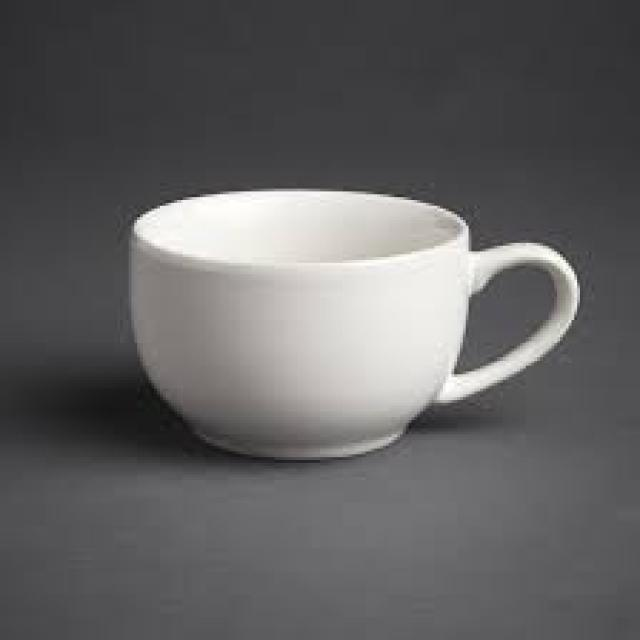taza: (130, 188, 580, 464)
